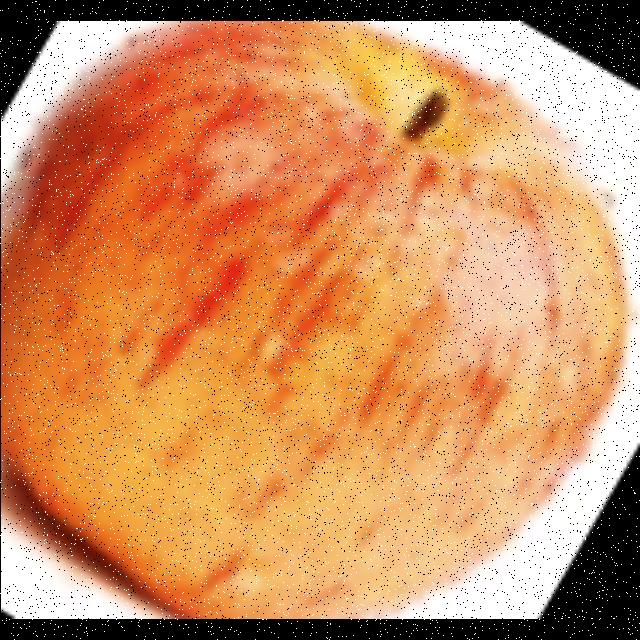Apel Segar: (0, 21, 636, 619)
